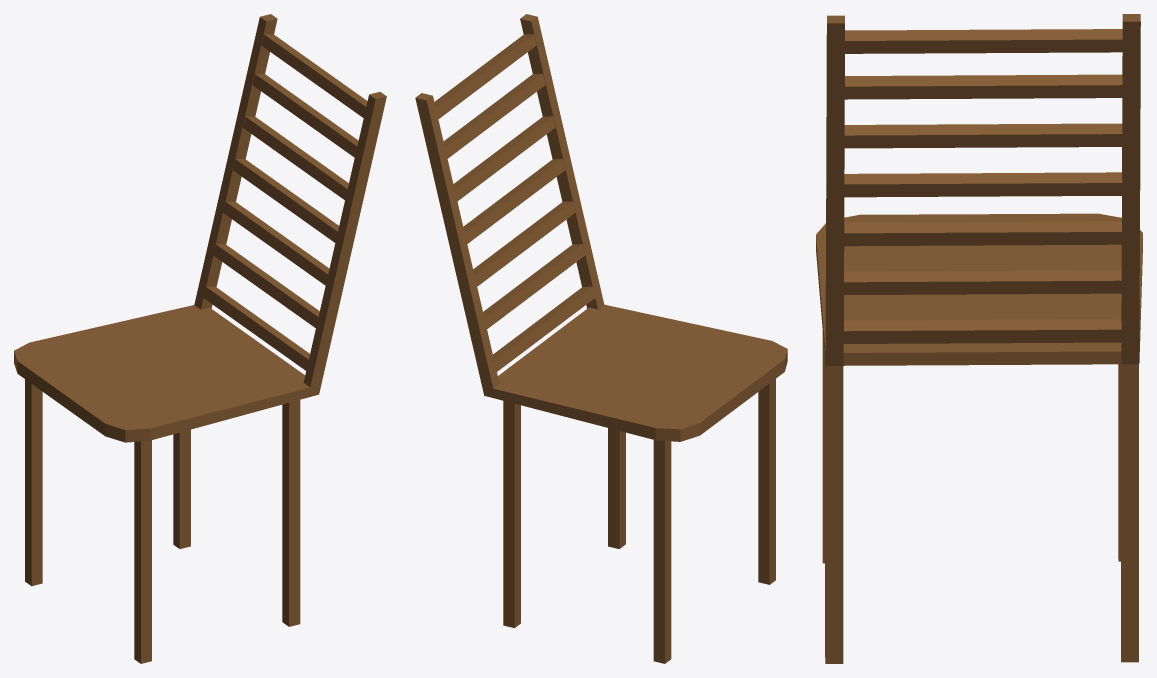
The model's file is pc_chair.fbx.
The picture shows the model from 3 angles, left to right: view 1: azimuth 30°, elevation 25°; view 2: azimuth 150°, elevation 25°; view 3: azimuth 270°, elevation 25°; orthographic projection. The views are drawn at different scales.
Parts seen in each view (by area): view 1: PC_1.001; view 2: PC_1.001; view 3: PC_1.001.
Part boxes in pixels (x1,y1,x2,y2): PC_1.001: (14, 14, 386, 663); PC_1.001: (415, 14, 787, 663); PC_1.001: (816, 14, 1142, 663).
Bounding box in the file's own units: 205 × 365 × 155.
